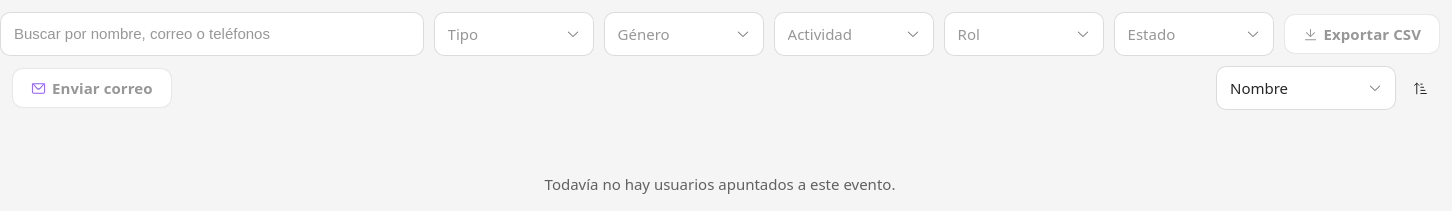
EventAttendeesTab › distinguishes an empty event from filters without matches
The width and height of the screenshot is (1452, 211).
Check: the button "Exportar CSV" is disabled, box [1284,14,1440,54]
In the field with placeholder "Buscar por nombre, correo o teléfonos": (212, 34) [14,13,410,55], type "zzz"
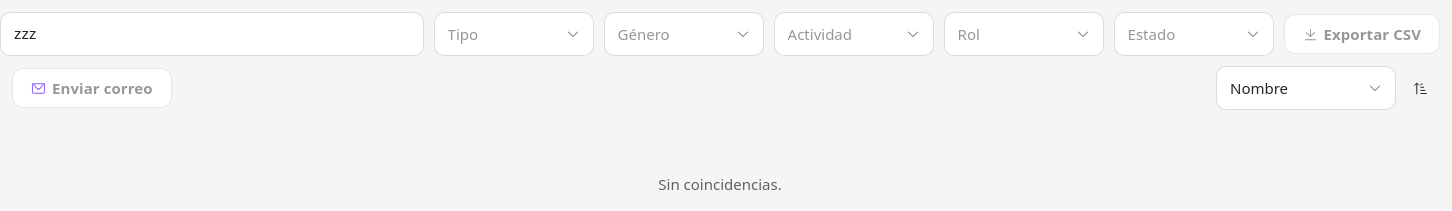
Check: the text "Sin coincidencias." is shown, box [658,174,782,194]
